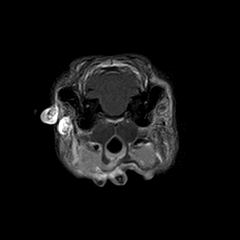Brain: (64, 39, 163, 137)
